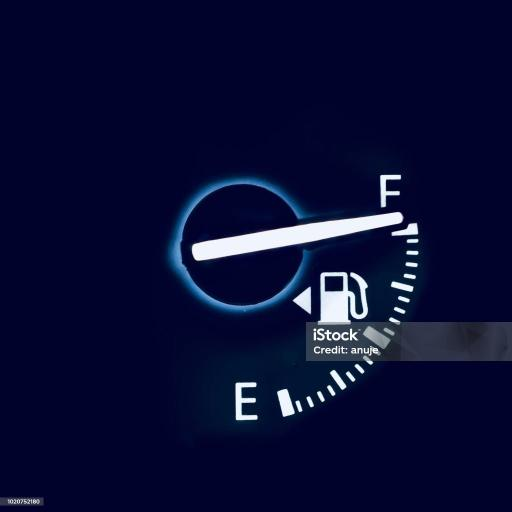empty: (231, 376, 261, 418)
fuel_icon: (318, 273, 372, 329)
full: (376, 170, 410, 207)
guage_area: (169, 158, 442, 428)
needle_center: (180, 184, 311, 309)
needle_tip: (385, 211, 408, 232)
